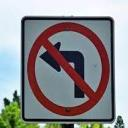NoVirarEsquerda: (28, 22, 109, 116)
